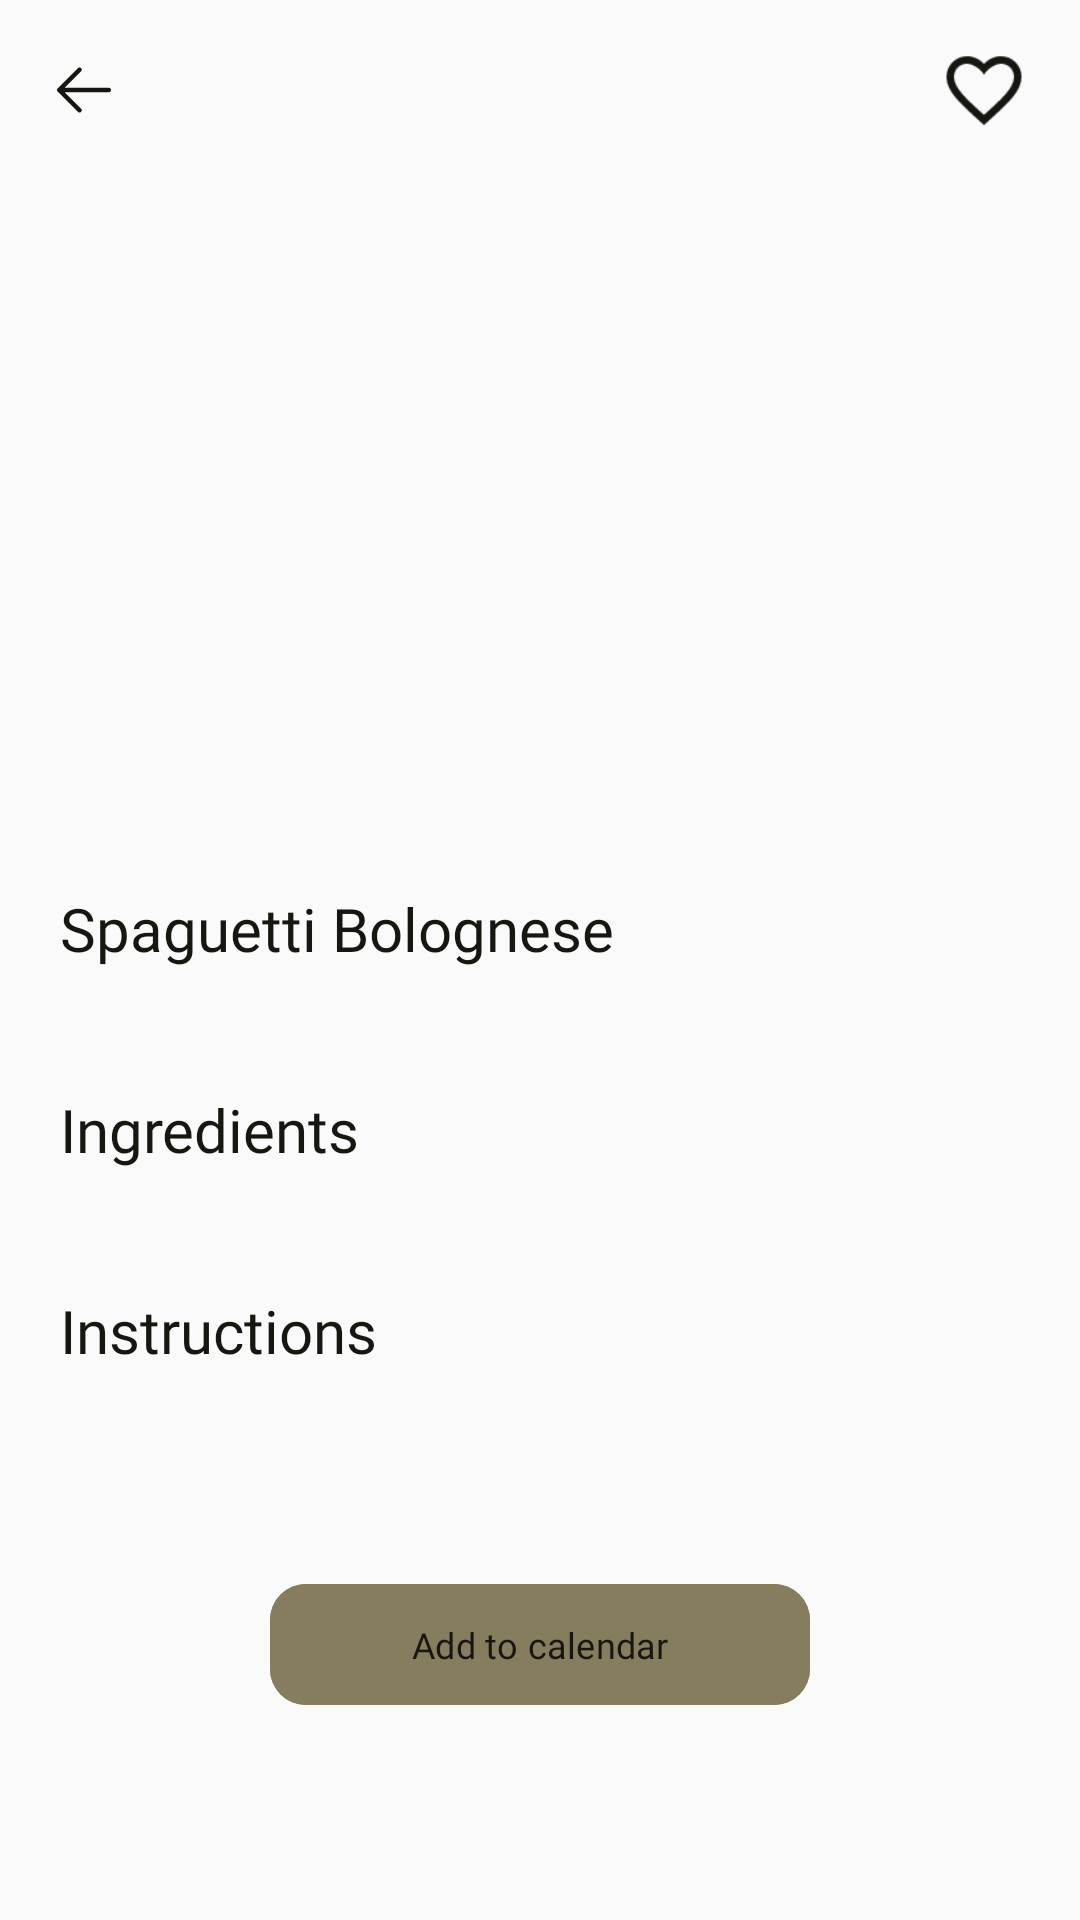

Screen size 1080 x 1920. Icon name, then its center in pixels as (x,y):
atras: (84,90)
